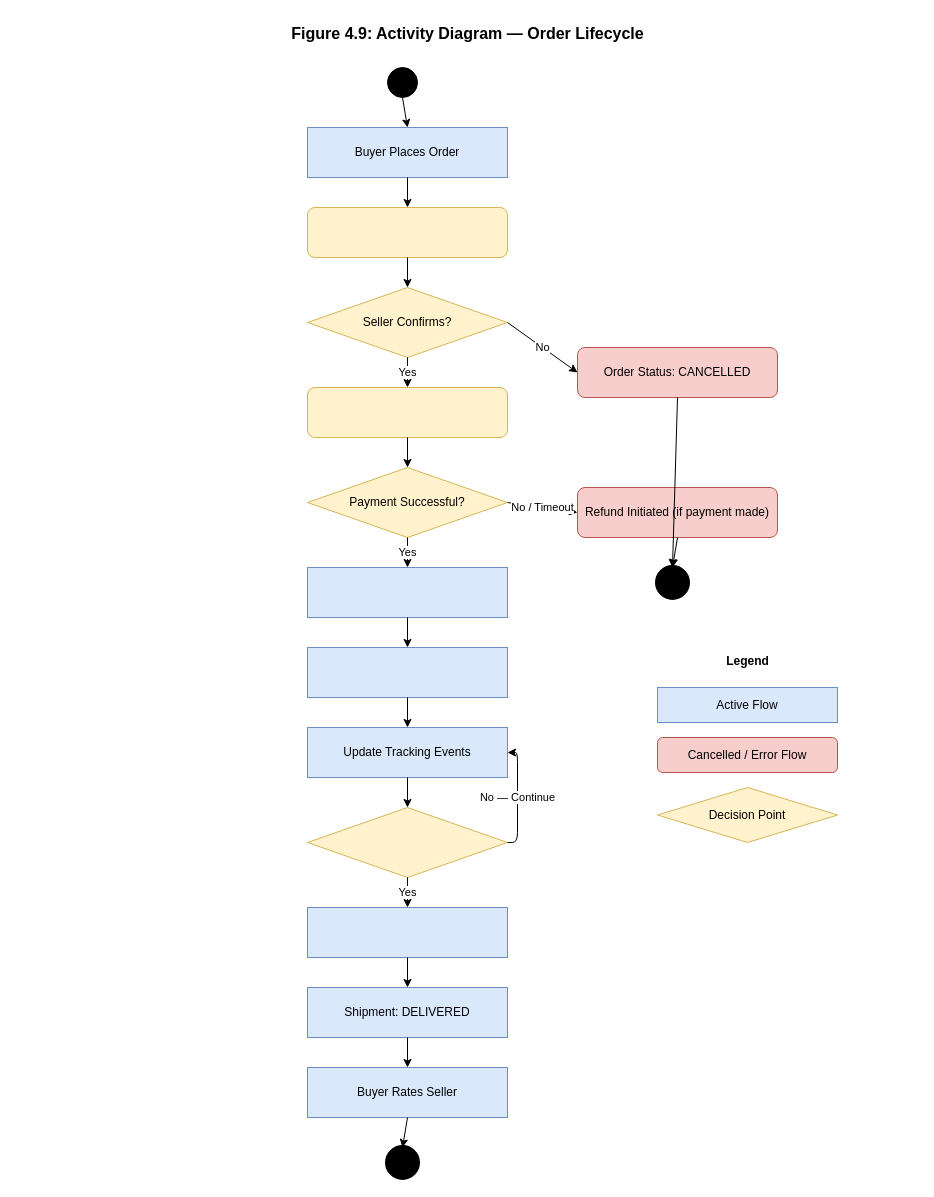
Some shapes in this 934 by 1197 pixel diagram are drawn without their labels. The shapes that lost their labels are listed below. From the top down, each one's box as (x1, y1, x2, y2) in pixels, then its label:
(306, 206, 508, 258): Order Status: PENDING
(306, 386, 508, 438): Order Status: CONFIRMED
(306, 566, 508, 618): Create Shipment (PENDING → IN_TRANSIT)
(306, 646, 508, 698): Transporter Accepts Job
(306, 806, 508, 878): All Checkpoints Cleared?
(306, 906, 508, 958): Border Clearance: CLEARED
